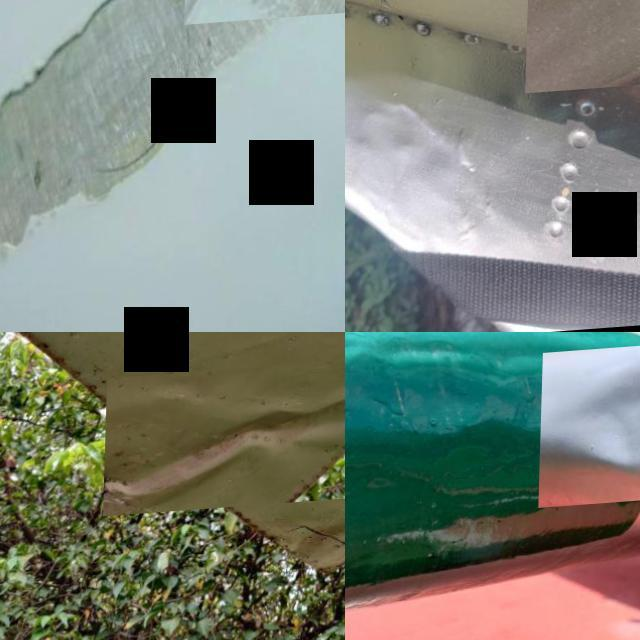Crack: (527, 0, 640, 98)
Dent: (105, 362, 345, 518), (539, 344, 640, 513), (277, 510, 345, 581)
